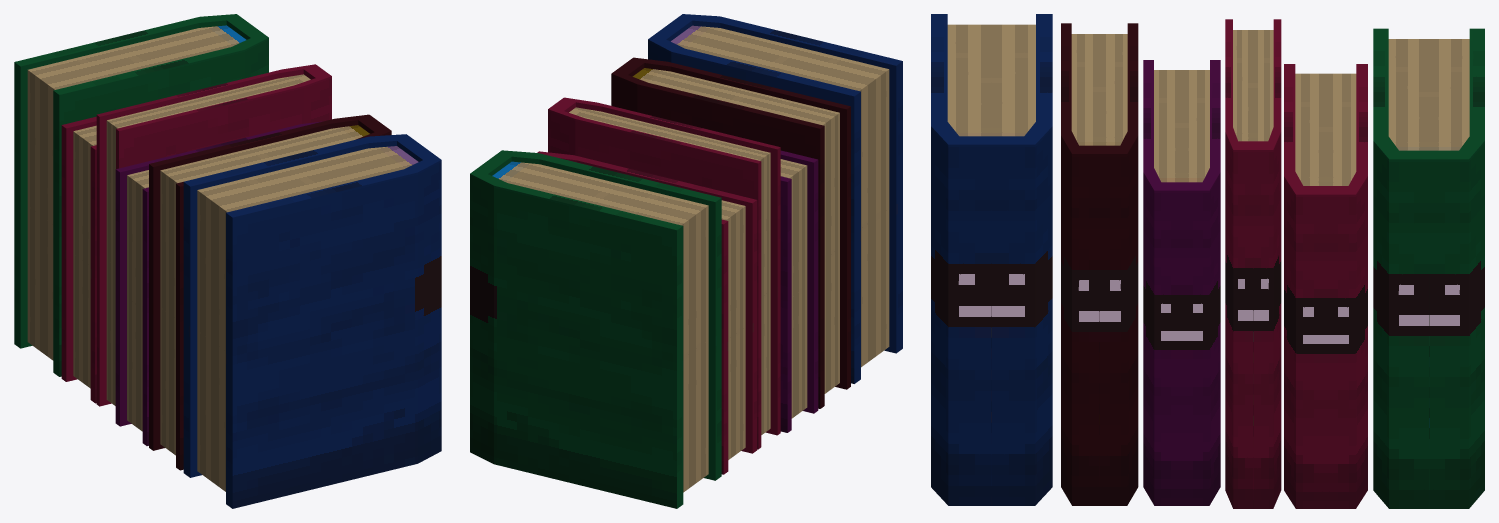
Rendered from E_Books.5.fbx.
3 views of the same model, side by side, from view 1: azimuth 30°, elevation 25°; view 2: azimuth 150°, elevation 25°; view 3: azimuth 270°, elevation 25° (orthographic). The views are drawn at different scales.
Visible parts, largest first — view 1: Cube.014; view 2: Cube.014; view 3: Cube.014.
Part boxes in pixels (x1,y1,x2,y2): Cube.014: [14, 14, 441, 508]; Cube.014: [470, 14, 902, 508]; Cube.014: [931, 14, 1484, 508].
Size of the model in its own units: 38.73 by 48.73 by 67.74.
